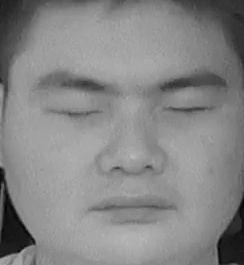blink: (164, 94, 215, 127), (54, 96, 103, 129)
mouth: (88, 185, 176, 233)
